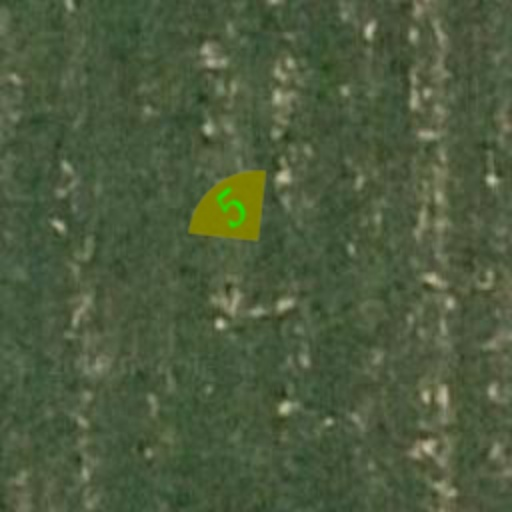quarter_circle: (164, 140, 300, 276)
